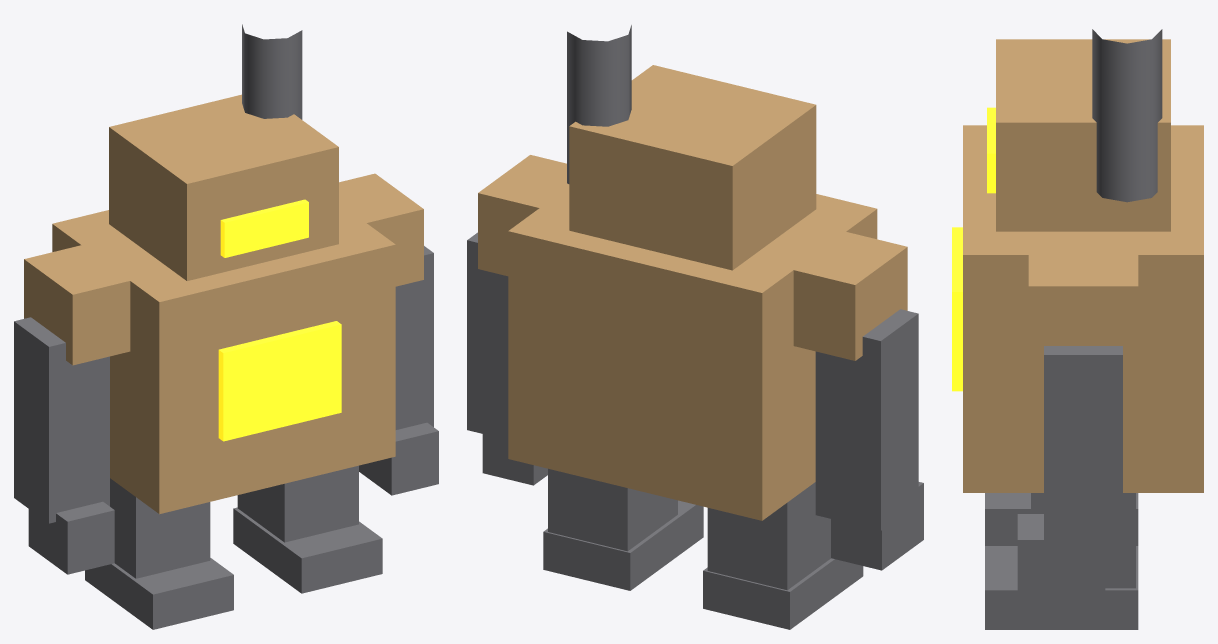
The model's file is golem_steam.glb.
3 renders of one model, left to right at view 1: azimuth 30°, elevation 25°; view 2: azimuth 150°, elevation 25°; view 3: azimuth 270°, elevation 25°, orthographic. The views are drawn at different scales.
Visible parts, largest first — view 1: SteamBody, SteamIronParts, SteamFurnaceGlow; view 2: SteamBody, SteamIronParts; view 3: SteamBody, SteamIronParts, SteamFurnaceGlow.
Boxes of the visible parts, x1=… form: SteamBody: x1=24, y1=94, x2=423, y2=514; SteamIronParts: x1=14, y1=24, x2=438, y2=629; SteamFurnaceGlow: x1=218, y1=199, x2=341, y2=441; SteamBody: x1=478, y1=65, x2=907, y2=520; SteamIronParts: x1=467, y1=25, x2=923, y2=629; SteamBody: x1=963, y1=39, x2=1203, y2=492; SteamIronParts: x1=985, y1=29, x2=1162, y2=629; SteamFurnaceGlow: x1=952, y1=107, x2=995, y2=391.
Size of the model in its own units: 1.14 by 1.45 by 0.575.
